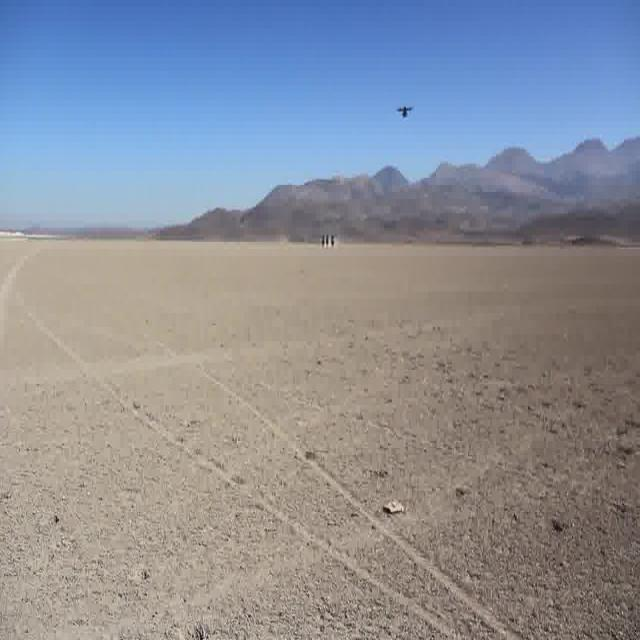drone: (394, 98, 414, 121)
